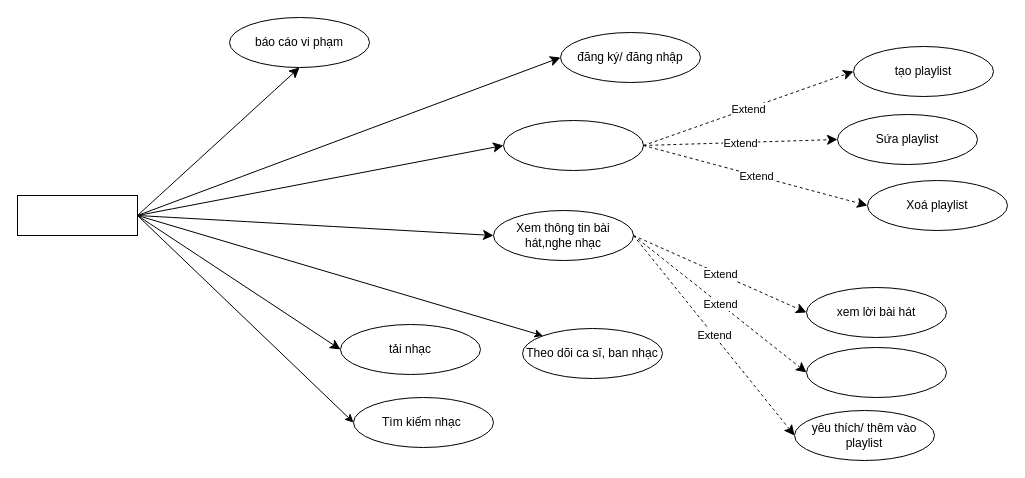
Some shapes in this 1025 by 478 pixel diagram are drawn without their labels. The box of each missing label's shape, as (x1, y1, x2, y2) in pixels:
chia sẻ bài hát: (806, 346, 946, 398)
Người dùng: (16, 194, 138, 236)
quản lí danh sách playlist: (502, 120, 644, 170)
